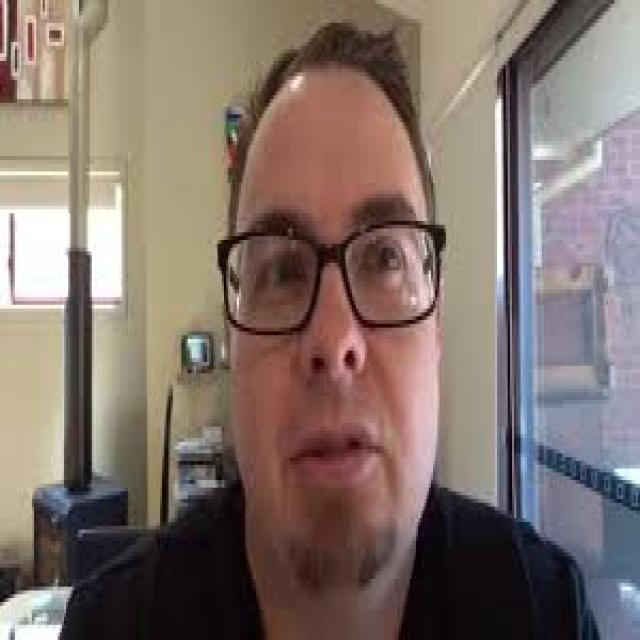normal_face: (229, 56, 463, 618)
